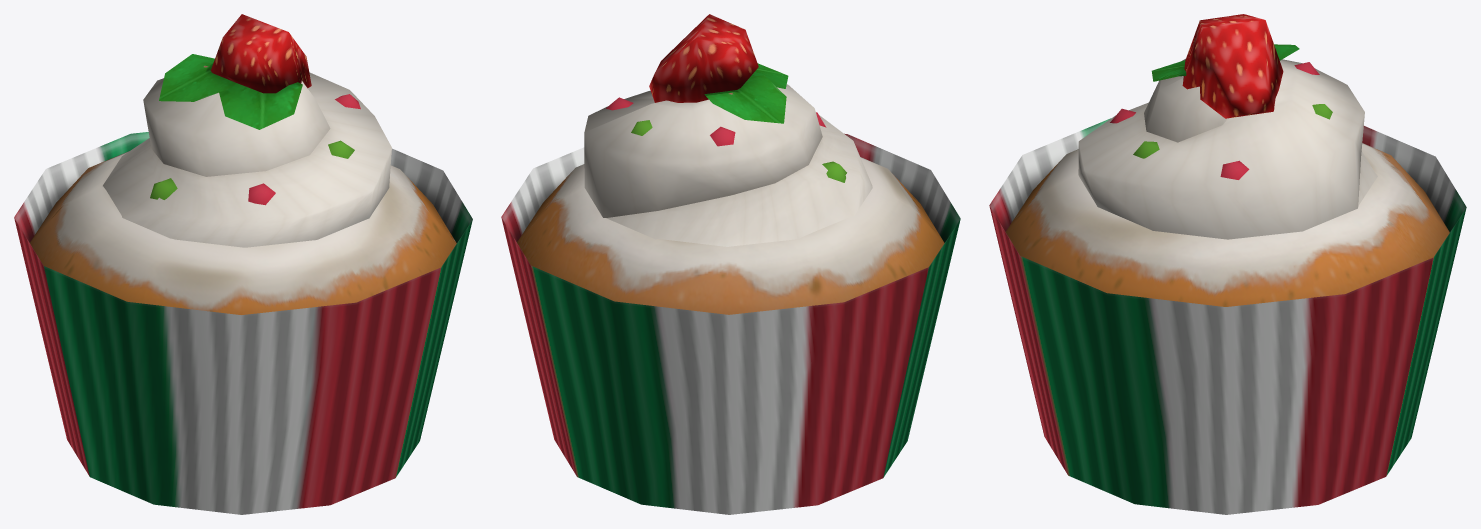
Rendered from A2_S1M1_0001_FlagCupcakes_Italy.fbx.
3 views of the same model, side by side, from view 1: azimuth 30°, elevation 25°; view 2: azimuth 150°, elevation 25°; view 3: azimuth 270°, elevation 25° (orthographic). The views are drawn at different scales.
Parts seen in each view (by area): view 1: A2_S1M1_0001_FlagCupcakes_Italy; view 2: A2_S1M1_0001_FlagCupcakes_Italy; view 3: A2_S1M1_0001_FlagCupcakes_Italy.
Boxes of the visible parts, x1=… form: A2_S1M1_0001_FlagCupcakes_Italy: x1=14, y1=14, x2=472, y2=514; A2_S1M1_0001_FlagCupcakes_Italy: x1=501, y1=14, x2=960, y2=514; A2_S1M1_0001_FlagCupcakes_Italy: x1=989, y1=14, x2=1466, y2=514.
Size of the model in its own units: 10 by 9.84 by 10.
1 material, 1 textured.
